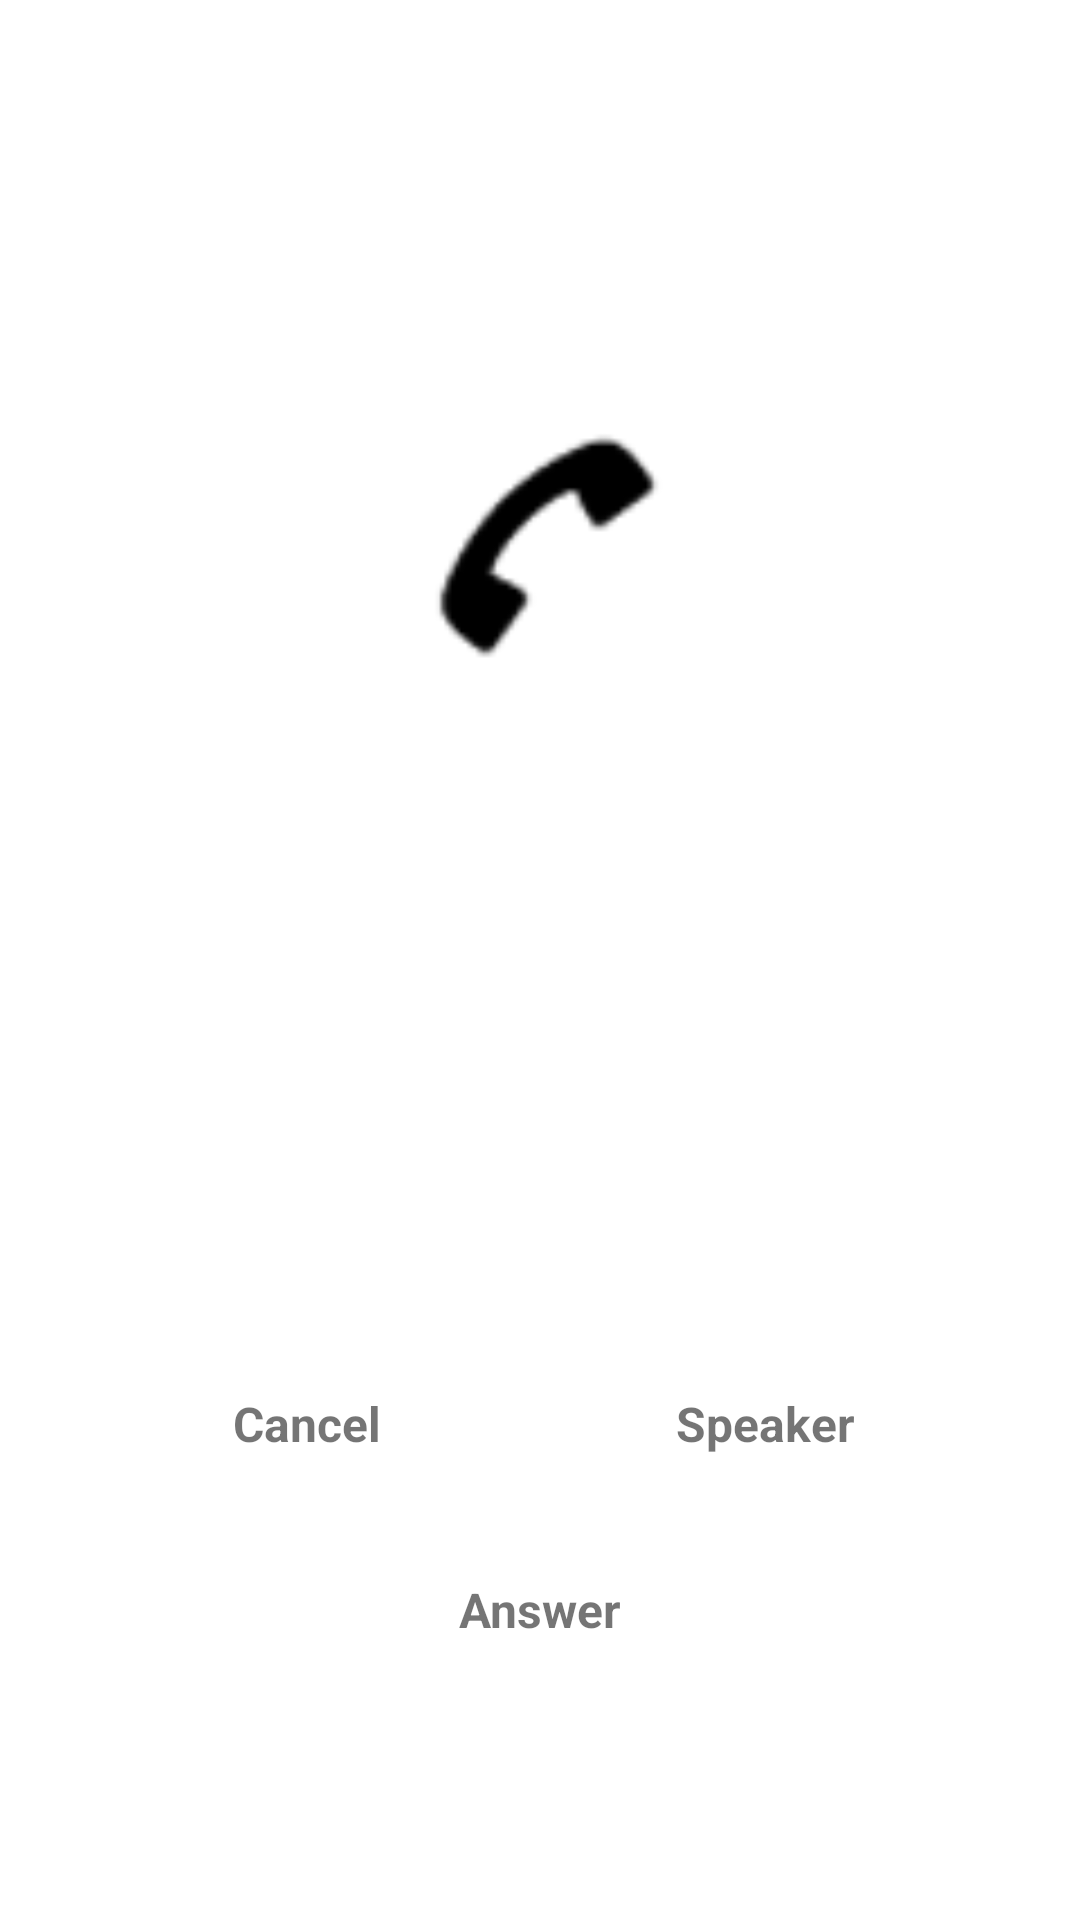

Icons on this 1080 × 1920 Android screen, each with the point to tap as (x=x, y=y):
sym action call: (x=547, y=546)
